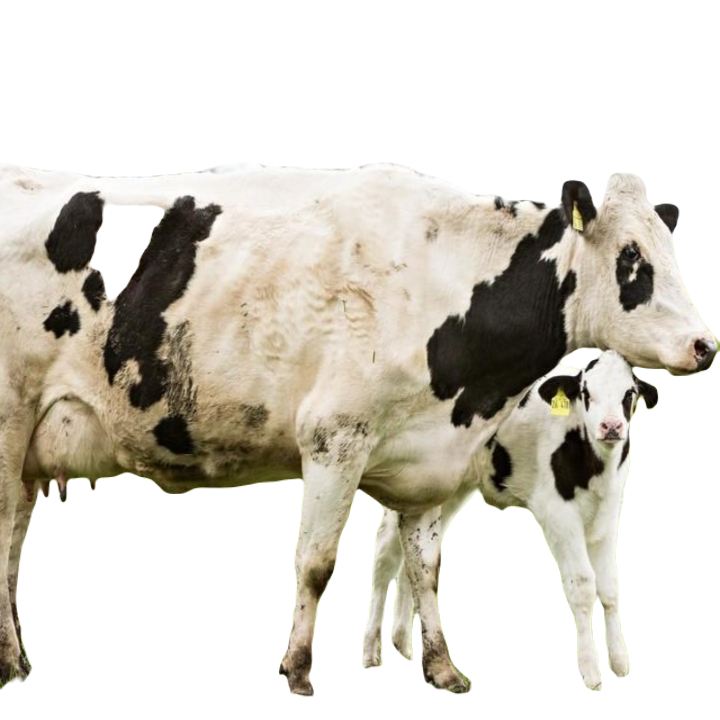Cow: (2, 163, 719, 694)
